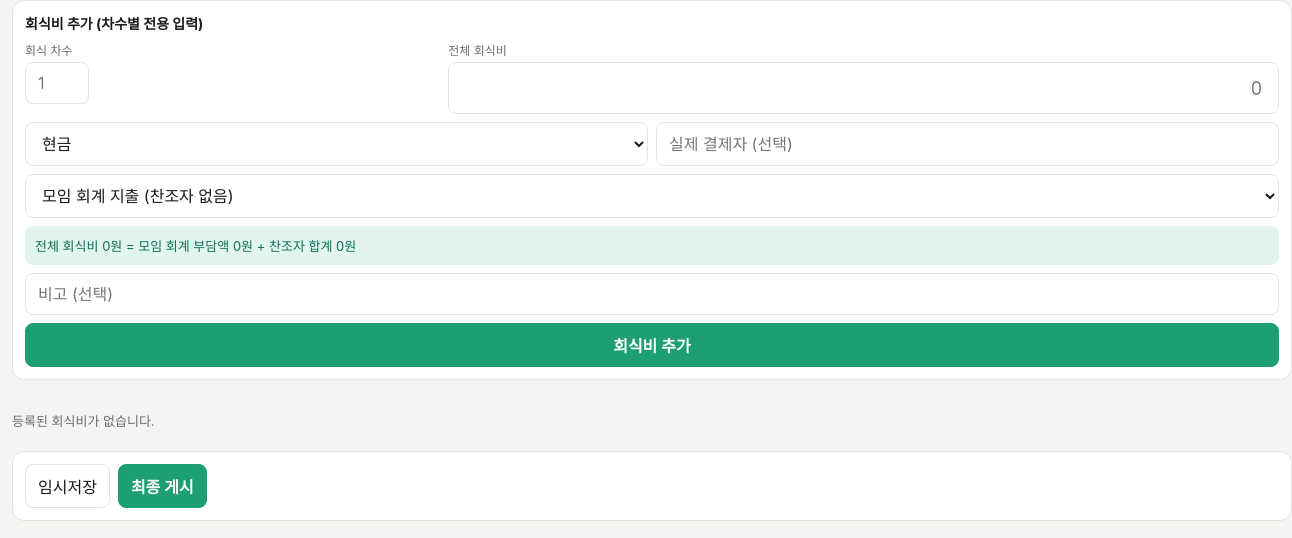
DinnerContributionForm — 전체 회식비 입력칸 천단위 콤마 표시 › 전체 회식비에 1234567을 입력하면 1,234,567로 보인다
Type "1234567" into the field named "전체 회식비" at (864, 88), box [448,62,1279,114]
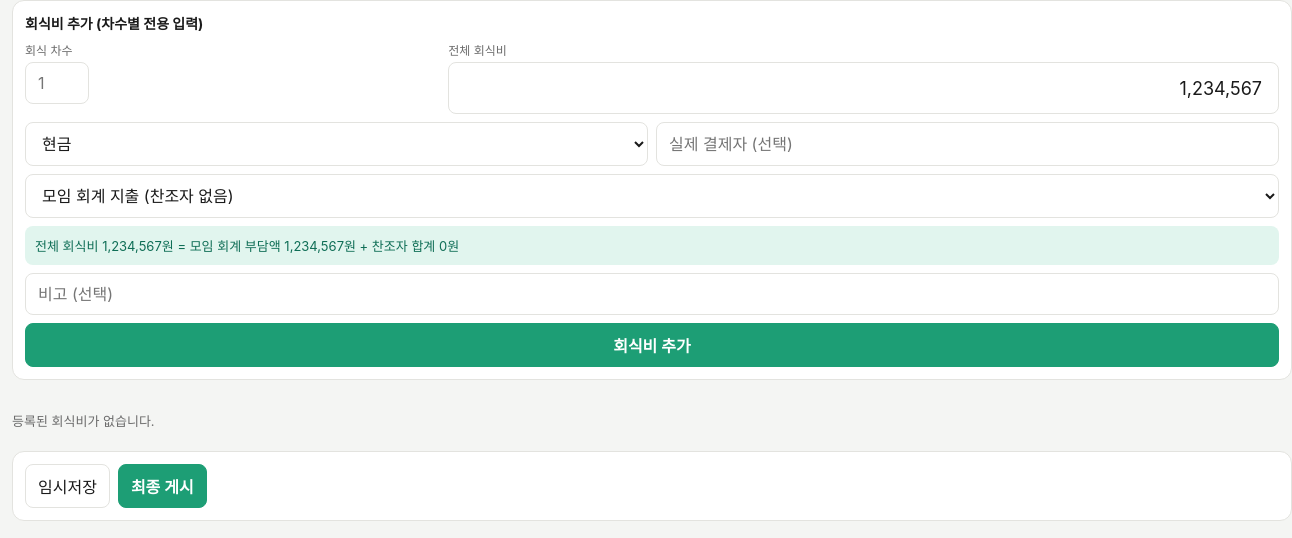
Check: the field named "전체 회식비" holds "1,234,567", box [448,62,1279,114]
